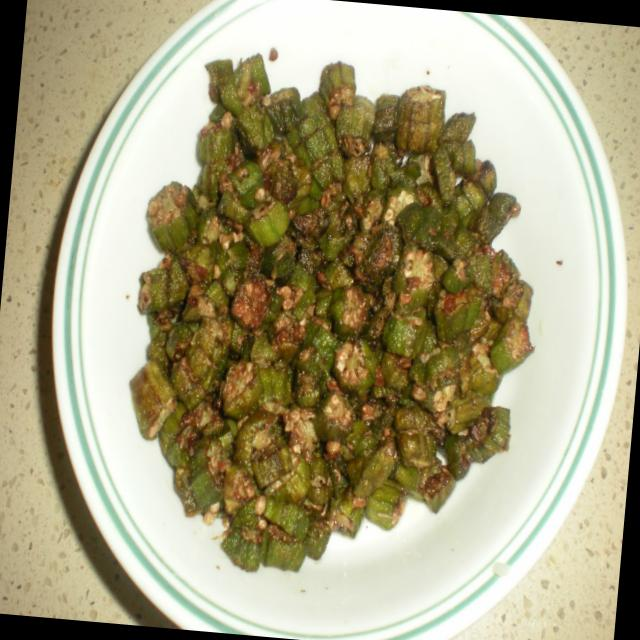BhindiMasala: (114, 42, 559, 592)
